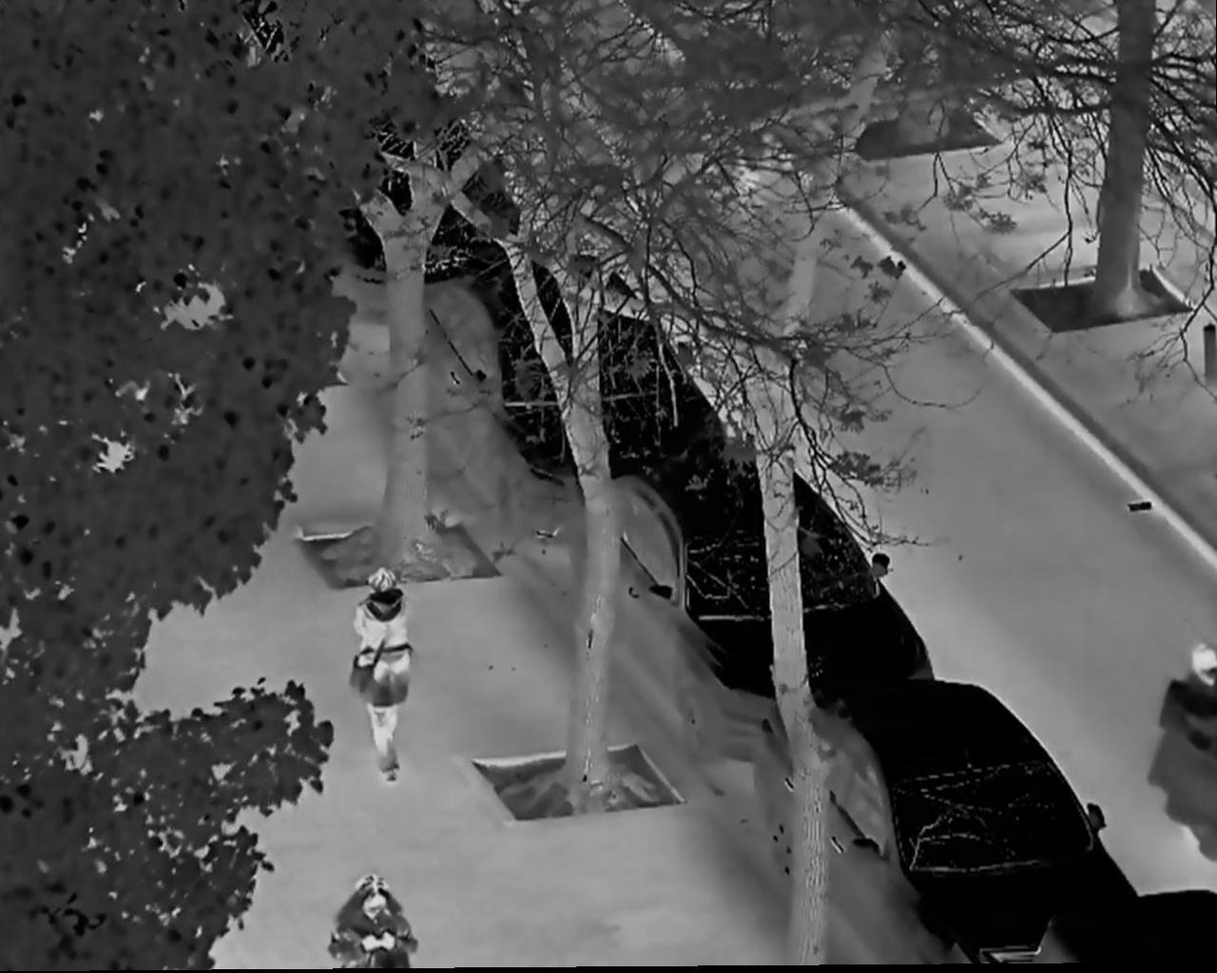person: (348, 571, 419, 785), (1161, 638, 1217, 787), (324, 879, 412, 973)
